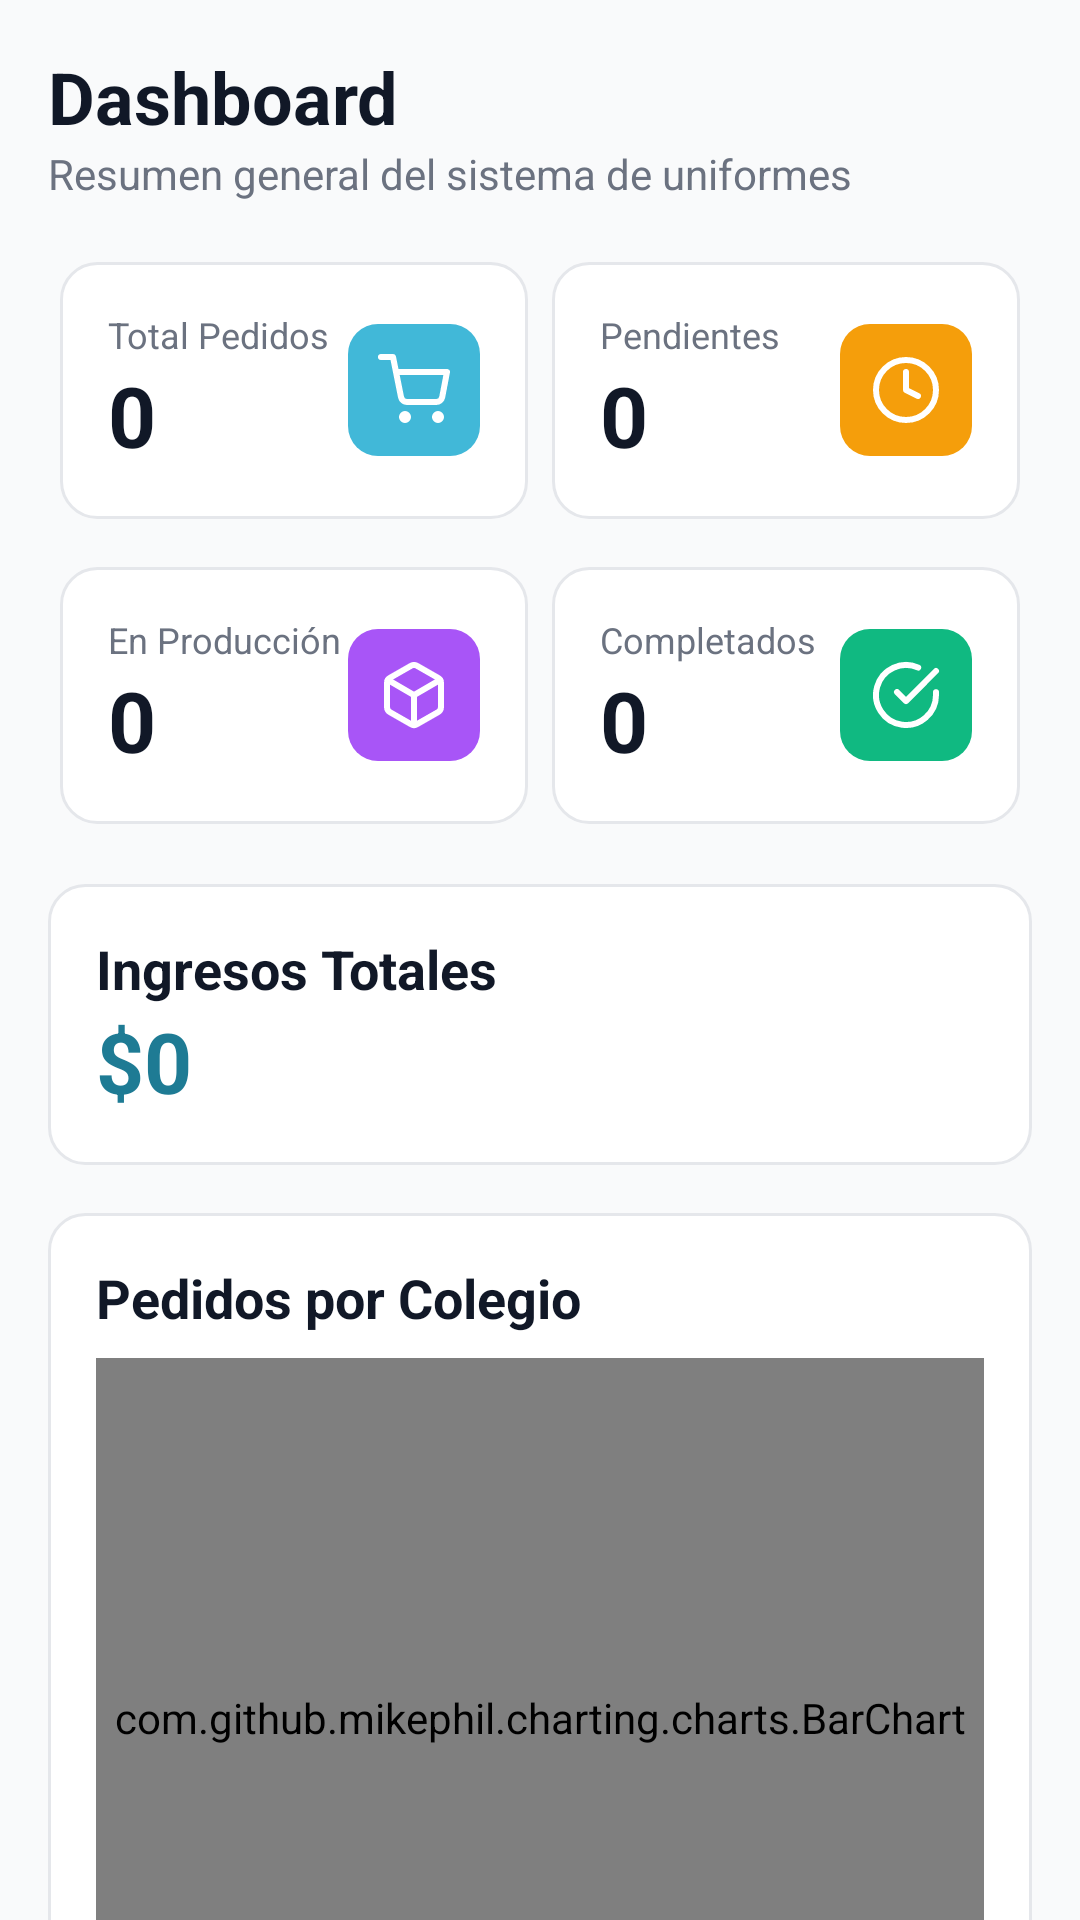

Locate icon controls on the screen. Image size 1080 x 1920, boxes as [x1, y1, x2, y2].
box: [348, 629, 480, 761]
cart: [348, 324, 480, 456]
check circle: [840, 629, 972, 761]
clock: [840, 324, 972, 456]
